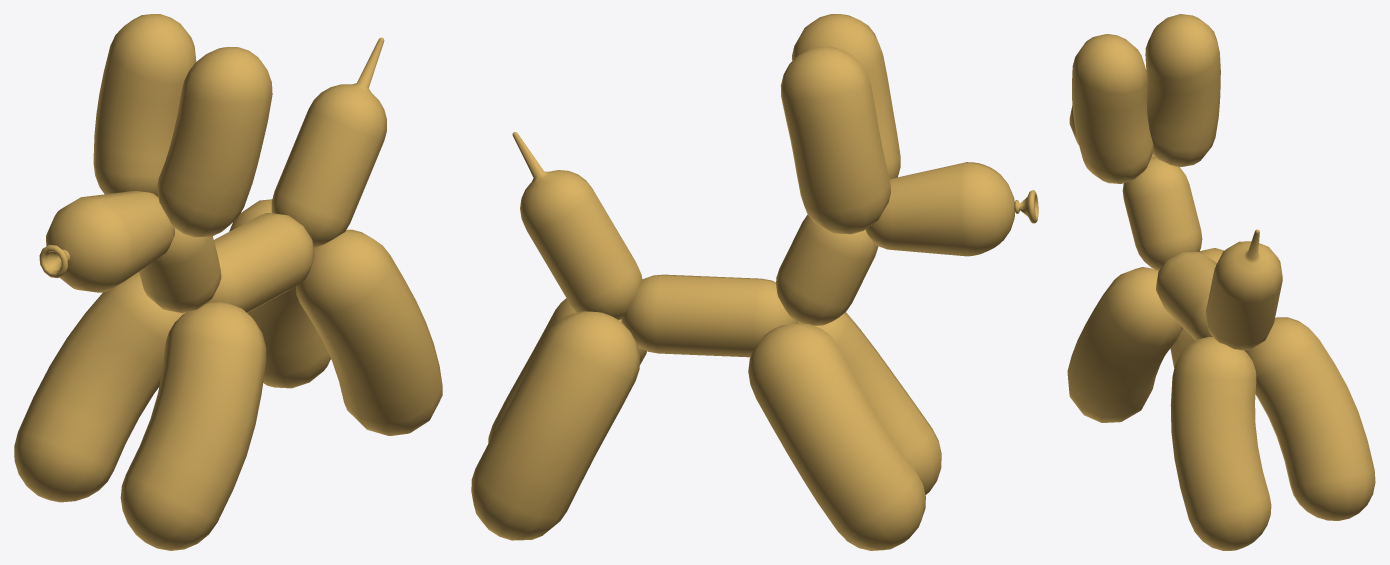
Rendered from balloon.fbx.
3 renders of one model, left to right at view 1: azimuth 30°, elevation 25°; view 2: azimuth 150°, elevation 25°; view 3: azimuth 270°, elevation 25°, orthographic. The views are drawn at different scales.
Parts seen in each view (by area): view 1: dog_01; view 2: dog_01; view 3: dog_01.
Part boxes in pixels (x1,y1,x2,y2): dog_01: (14, 14, 442, 550); dog_01: (471, 14, 1038, 550); dog_01: (1067, 14, 1375, 550).
Bounding box in the file's own units: 179 × 180 × 120.
